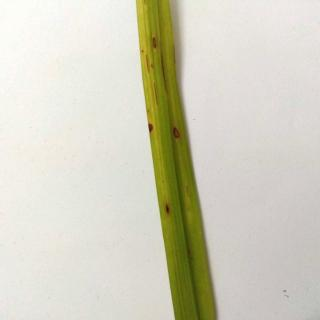Blast: (133, 11, 180, 143), (152, 184, 189, 254)
